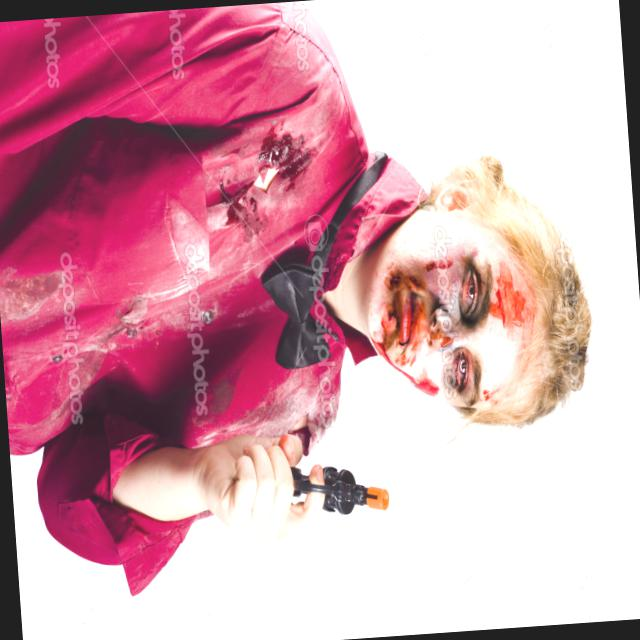handgun: (268, 457, 396, 540)
